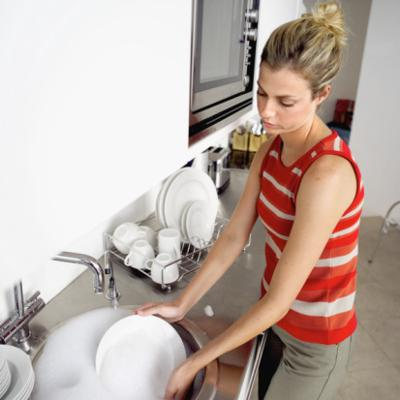person: (132, 10, 359, 399)
